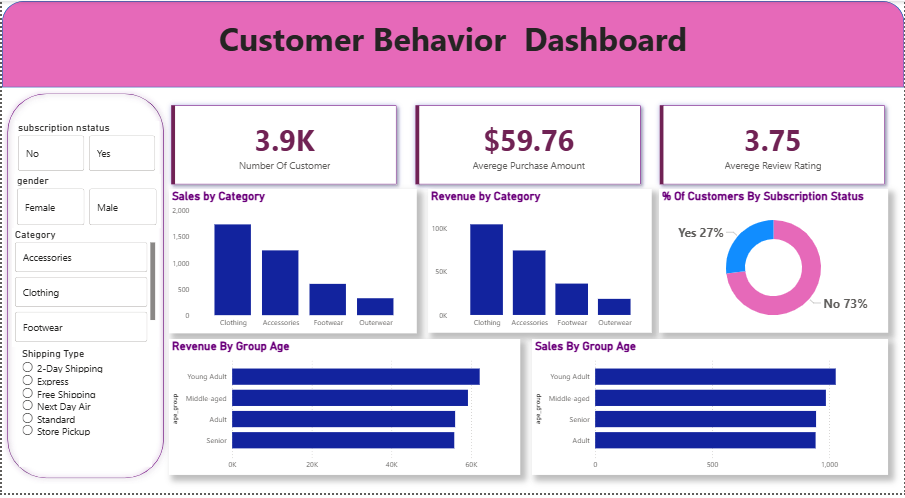

Layout of this report page (visuals, bound fields, positions):
{"tool":"powerbi","page":{"name":"Page 1","canvas":[1500,820],"ordinal":0},"visuals":[{"type":"cardVisual","fields":{"Data":["customer.Number Of Customer","customer.Averege Purchase Amount","customer.Averege Review Rating"]},"box":[253.2,143.9,1246.8,189.9],"z":0},{"type":"shape","box":[0,0,1500,143.7],"z":1000},{"type":"textbox","box":[0,19.7,1500,124],"z":2000},{"type":"clusteredColumnChart","title":"Revenue by Category","fields":{"Y":["Sum(customer.purchase_amount)"],"Category":["customer.category"]},"box":[707.8,312.7,372.1,239.8],"z":3000},{"type":"clusteredColumnChart","title":"Sales by Category","fields":{"Category":["customer.category"],"Y":["CountNonNull(customer.customer_id)"]},"box":[278.1,312.7,412.4,239.8],"z":4000},{"type":"donutChart","title":"% Of Customers By Subscription Status","fields":{"Category":["customer.subscription_status"],"Y":["CountNonNull(customer.customer_id)"]},"box":[1104.9,312.7,381.7,239.8],"z":5000},{"type":"shape","box":[0,143.9,278.1,657.9],"z":6000},{"type":"advancedSlicerVisual","fields":{"Values":["customer.subscription_status"]},"box":[21.1,199.5,239.8,88.2],"z":7000},{"type":"advancedSlicerVisual","fields":{"Values":["customer.gender"]},"box":[19.2,287.7,243.6,90.2],"z":8000},{"type":"advancedSlicerVisual","fields":{"Values":["customer.category"]},"box":[17.3,377.9,243.6,197.6],"z":9000},{"type":"listSlicer","fields":{"Values":["customer.shipping_type"]},"box":[28.8,575.4,220.6,199.5],"z":10000},{"type":"clusteredBarChart","title":"Revenue By Group Age","fields":{"Y":["Sum(customer.purchase_amount)"],"Category":["customer.age_group"]},"box":[278.1,575.4,583.1,226.3],"z":11000},{"type":"clusteredBarChart","title":"Sales By Group Age","fields":{"Y":["CountNonNull(customer.customer_id)"],"Category":["customer.age_group"]},"box":[893.9,575.4,592.7,226.3],"z":12000}]}

Visuals, with their boxes in screenshot pixels (x1, y1, x2, y2), scaled from the page's 1500x820 canvas onto the 905x498 screenshot:
cardVisual - customer.Number Of Customer x customer.Averege Purchase Amount: bbox=[153, 87, 904, 203]
shape: bbox=[0, 0, 904, 87]
textbox: bbox=[0, 12, 904, 87]
"Revenue by Category" clusteredColumnChart: bbox=[427, 190, 652, 336]
"Sales by Category" clusteredColumnChart: bbox=[168, 190, 417, 336]
"% Of Customers By Subscription Status" donutChart: bbox=[667, 190, 897, 336]
shape: bbox=[0, 87, 168, 487]
advancedSlicerVisual - customer.subscription_status: bbox=[13, 121, 157, 175]
advancedSlicerVisual - customer.gender: bbox=[12, 175, 159, 230]
advancedSlicerVisual - customer.category: bbox=[10, 230, 157, 350]
listSlicer - customer.shipping_type: bbox=[17, 349, 150, 471]
"Revenue By Group Age" clusteredBarChart: bbox=[168, 349, 520, 487]
"Sales By Group Age" clusteredBarChart: bbox=[539, 349, 897, 487]
